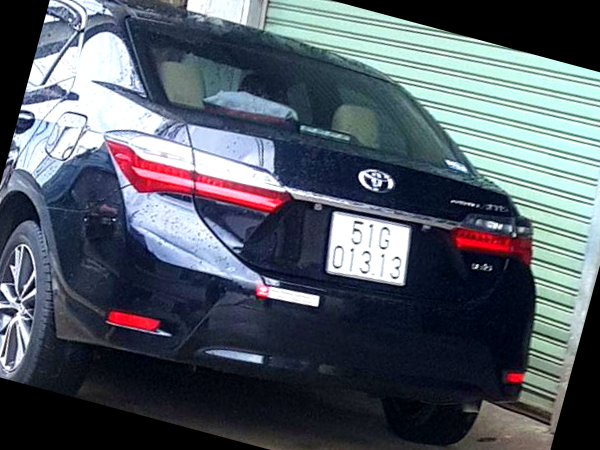lisence: (324, 212, 413, 286)
